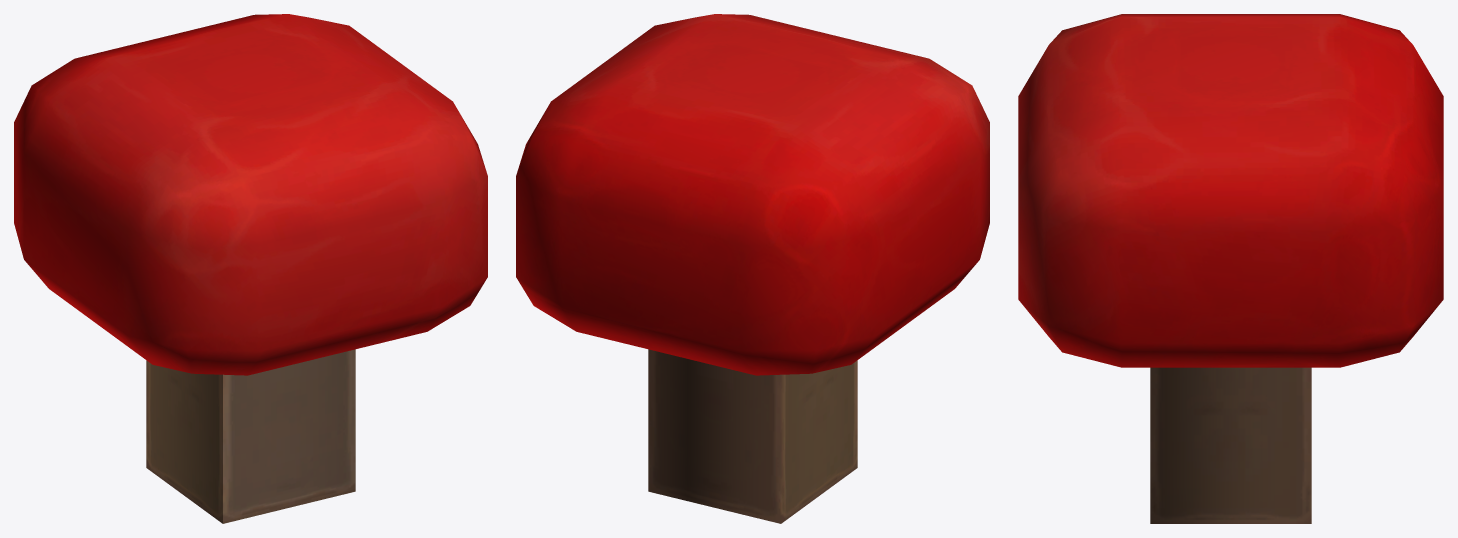
File: SM_Mushroom_01_A.glb
3 views of the same model, side by side, from view 1: azimuth 30°, elevation 25°; view 2: azimuth 150°, elevation 25°; view 3: azimuth 270°, elevation 25° (orthographic). The views are drawn at different scales.
Visible parts, largest first — view 1: SM_Mushroom_01_A; view 2: SM_Mushroom_01_A; view 3: SM_Mushroom_01_A.
Part boxes in pixels (<box>): SM_Mushroom_01_A: <box>14,14,487,523</box>; SM_Mushroom_01_A: <box>516,14,989,523</box>; SM_Mushroom_01_A: <box>1018,14,1443,523</box>.
Size of the model in its own units: 0.1029 by 0.114 by 0.1029.
Materials: 1 (1 with a texture image).
